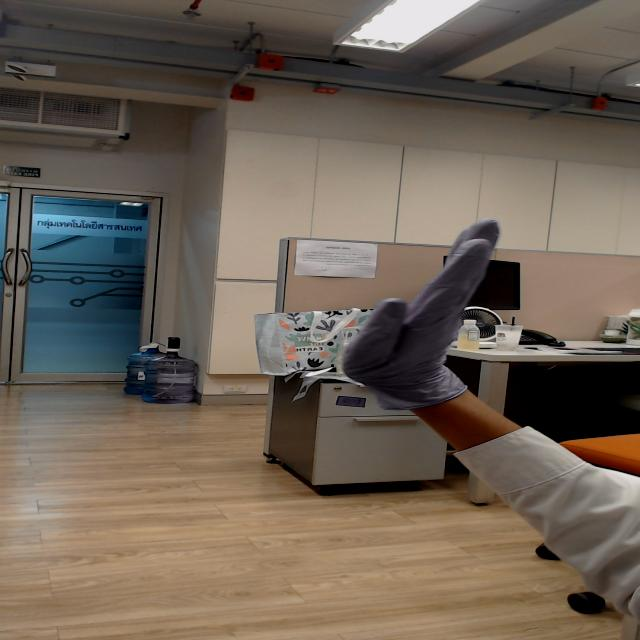glove: (312, 209, 524, 359)
